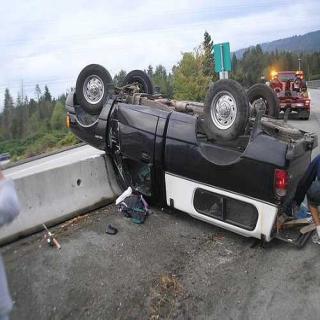Towing_truck: (266, 67, 312, 115)
